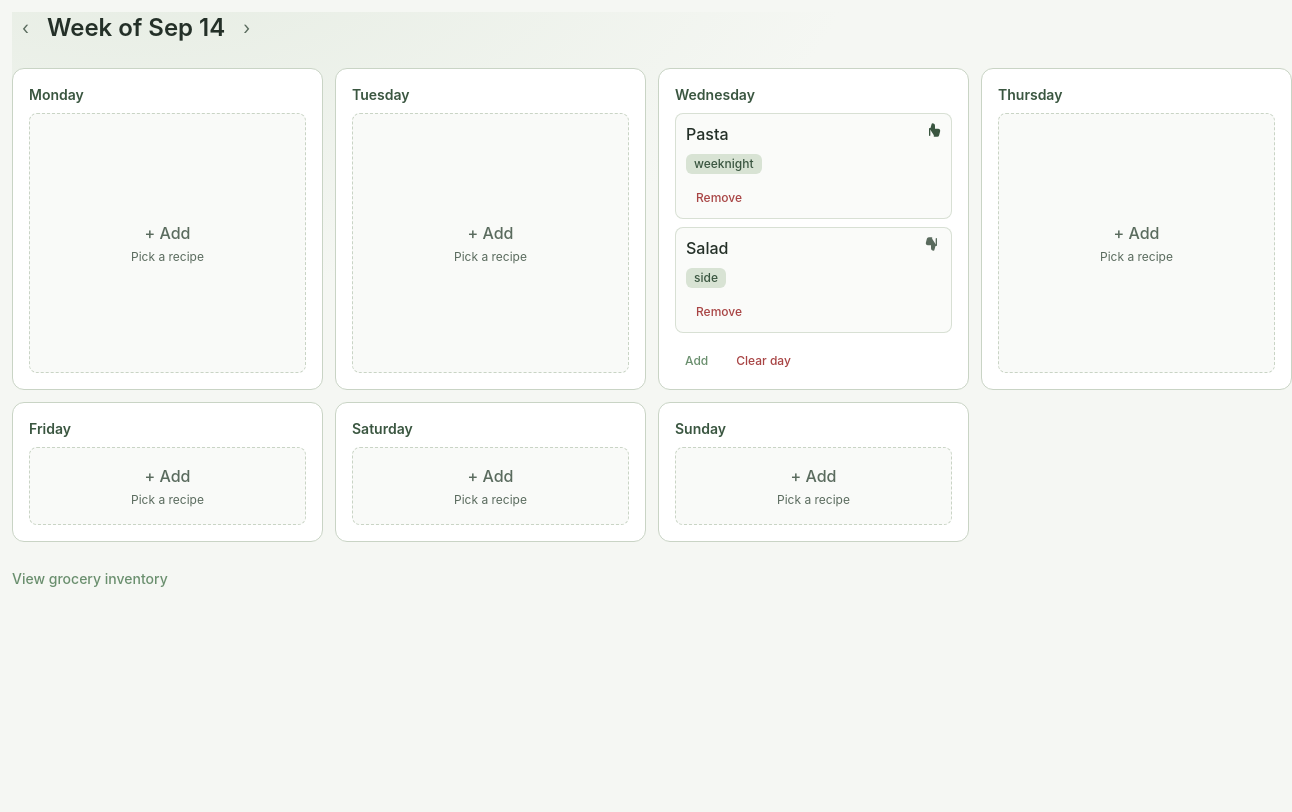
Test: WeeklyBoardPage › removes one recipe from a day
The image size is (1292, 812).
Expected: the text "Pasta" is shown, left=686, top=122, right=728, bottom=146
Expected: the text "Salad" is shown, left=686, top=236, right=728, bottom=260
What coordinates should you click on to do the following:
click the button "Remove" below "weeknight"
I would click on:
 (719, 198)
Its box is left=686, top=186, right=752, bottom=210.
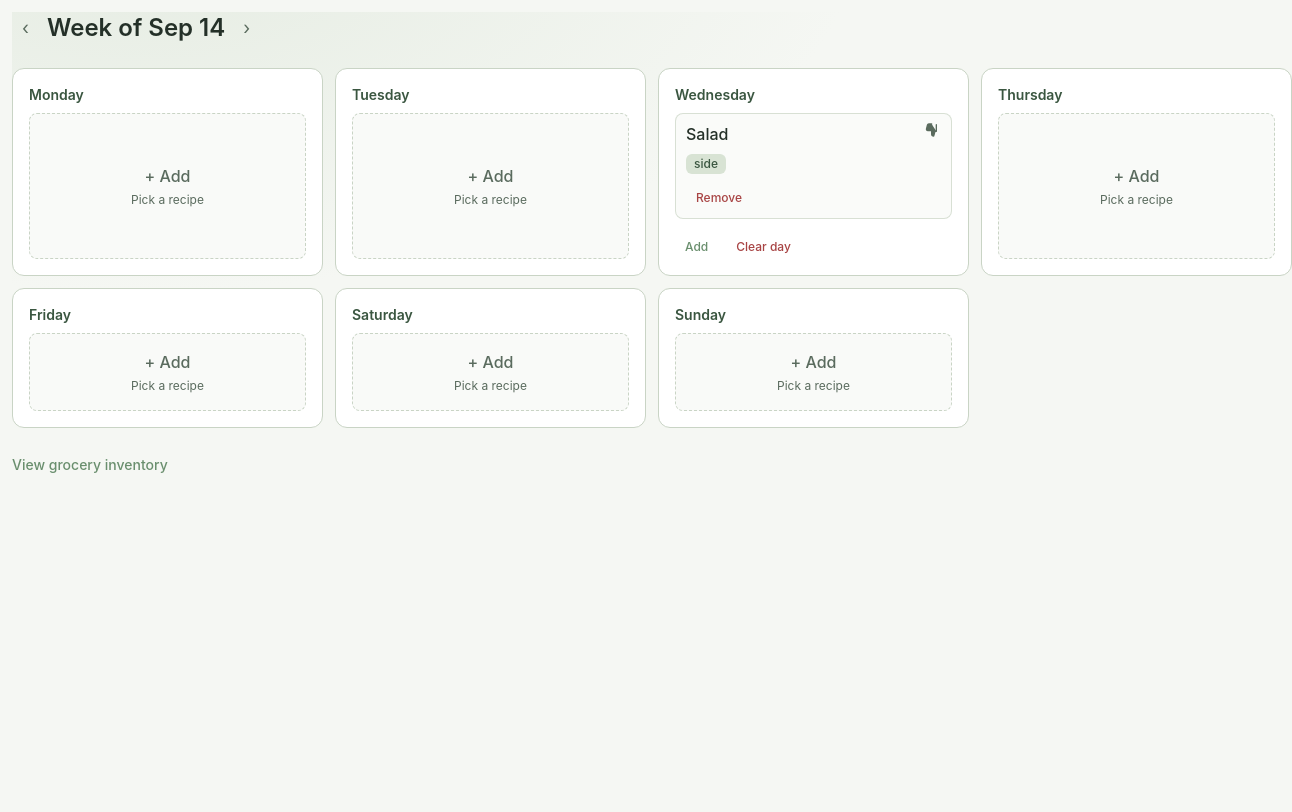
Expected: the text "Salad" is shown, left=686, top=122, right=728, bottom=146
Result: the text "Pasta" is gone
